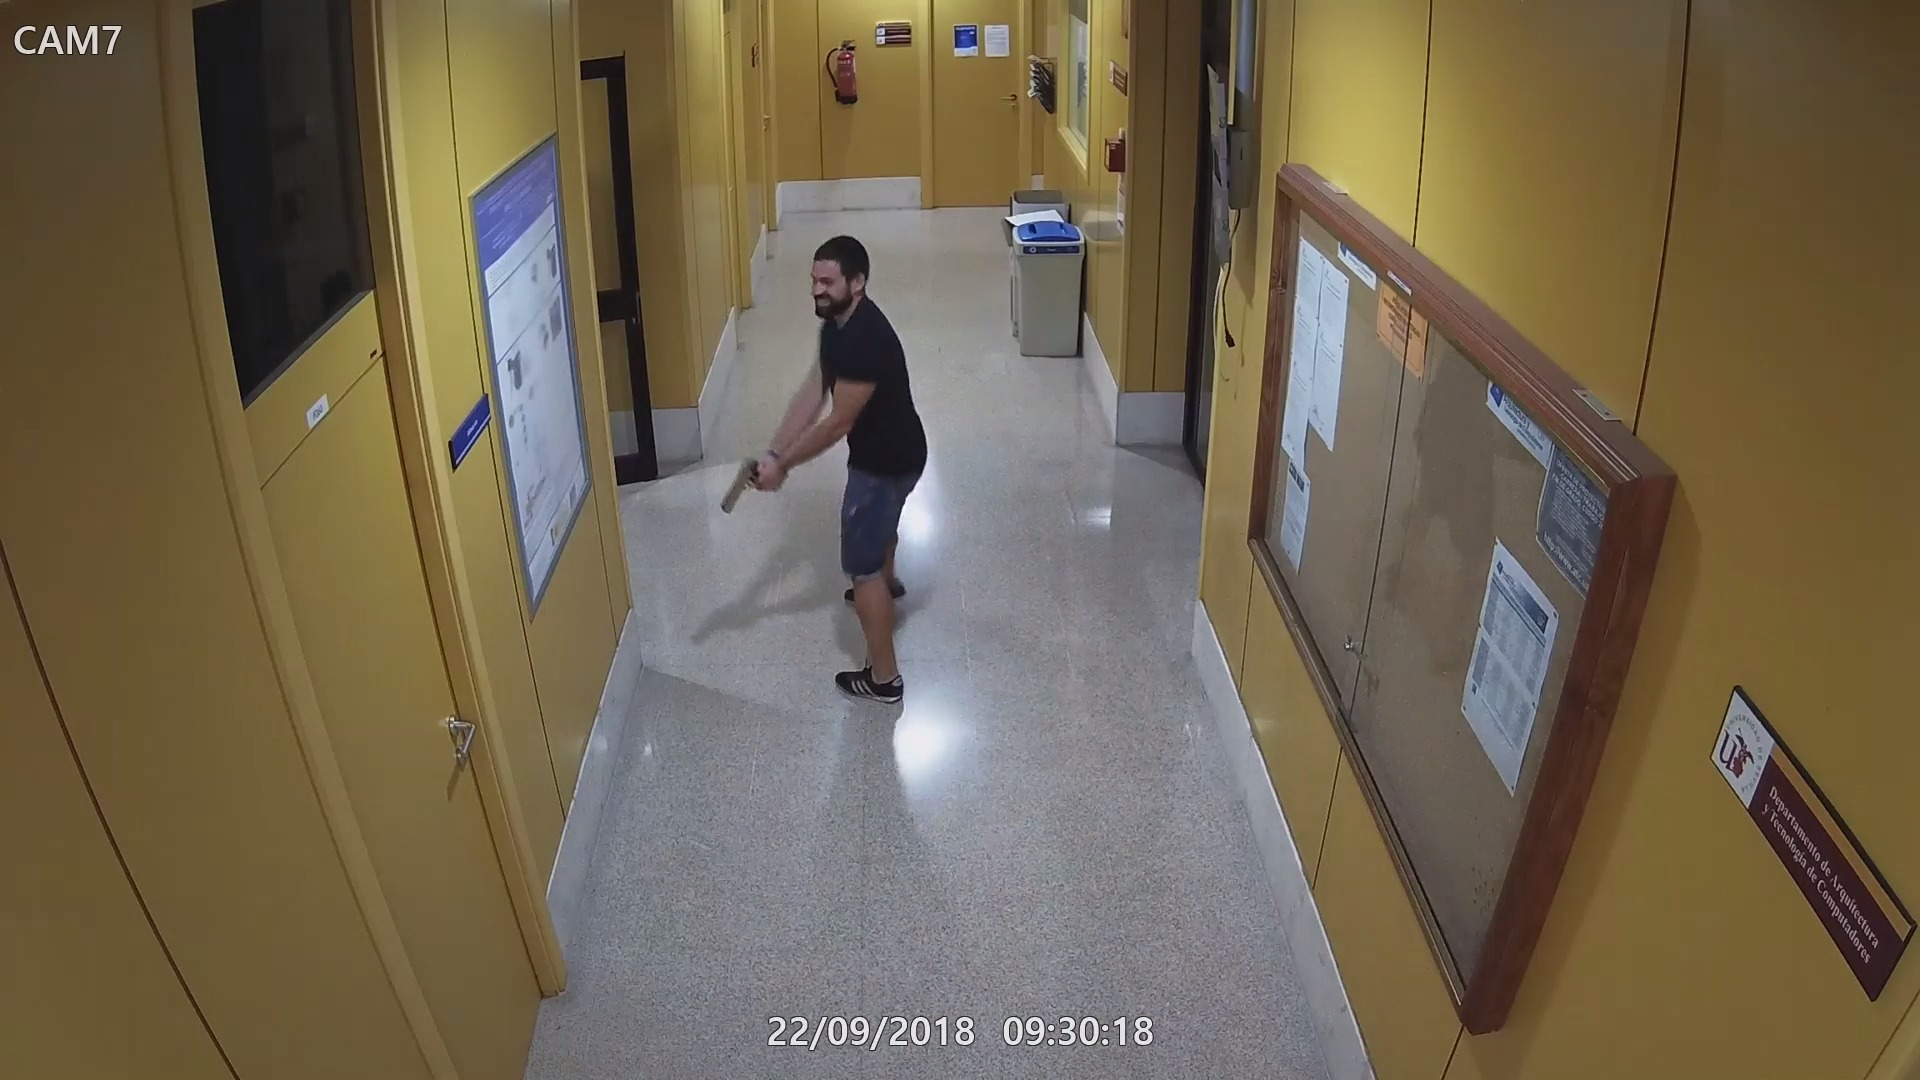Handgun: (716, 450, 777, 520)
